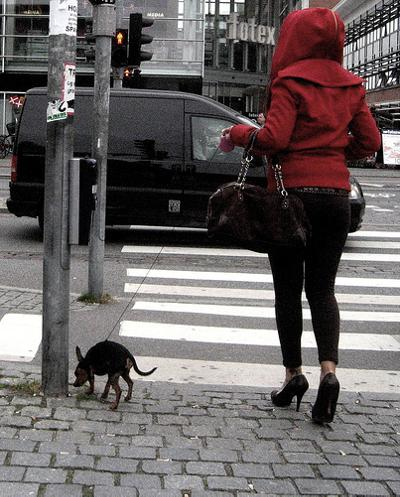person: (219, 10, 381, 422)
